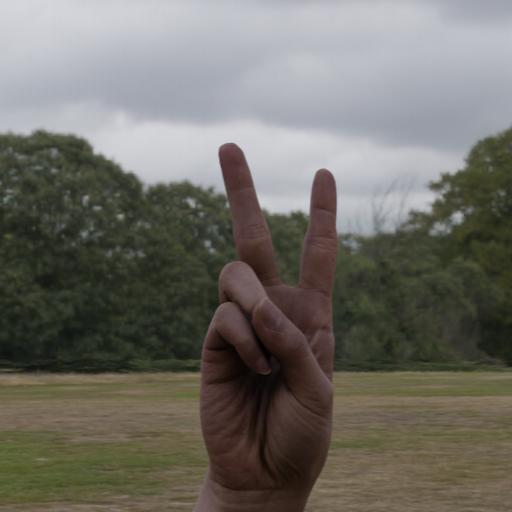V: (162, 120, 376, 506)
